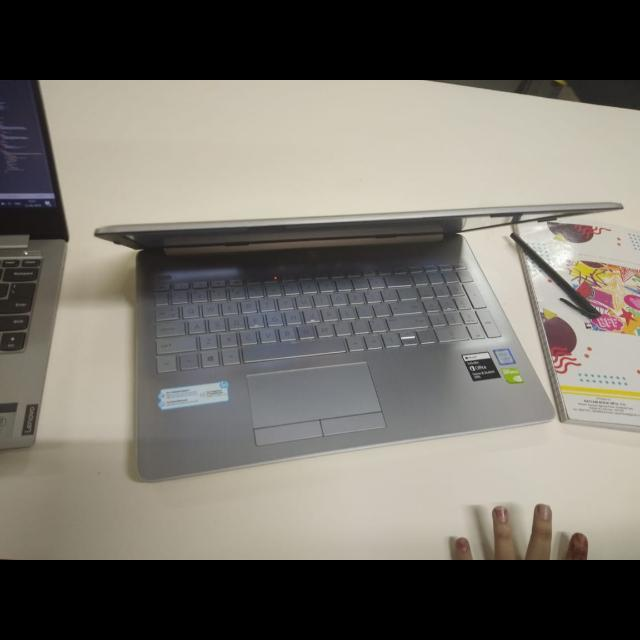Laptop: (84, 195, 640, 488)
